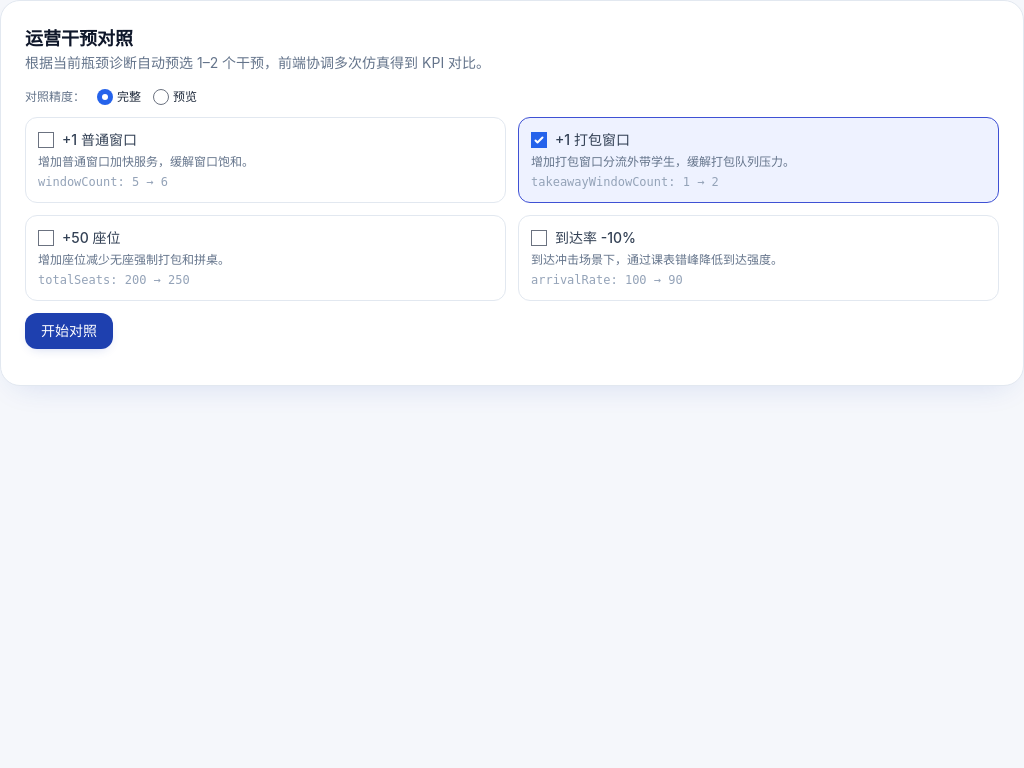
Test: InterventionPanel › intervention 失败时其他列仍渲染，该列标错误
Click the button "开始对照".
click(69, 331)  # box left=25, top=313, right=113, bottom=349
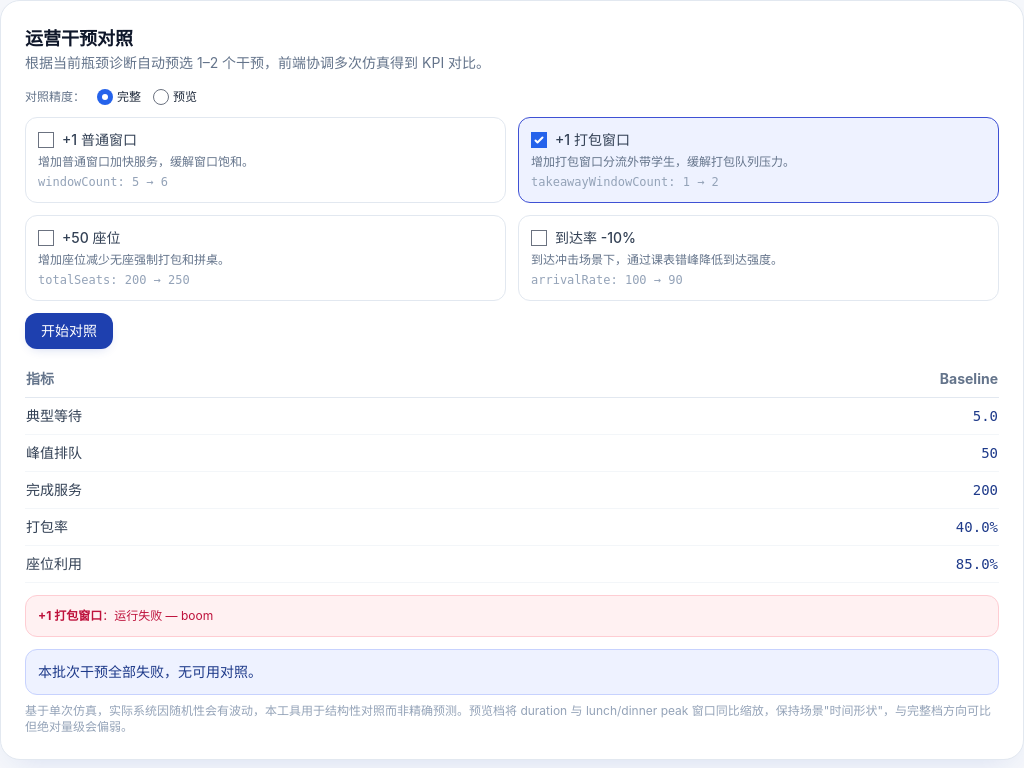
Check: the text "+1 打包窗口：运行失败 — boom" is shown, box left=38, top=608, right=213, bottom=623
